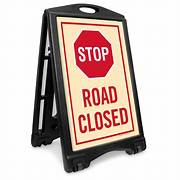stop: (74, 29, 114, 79)
